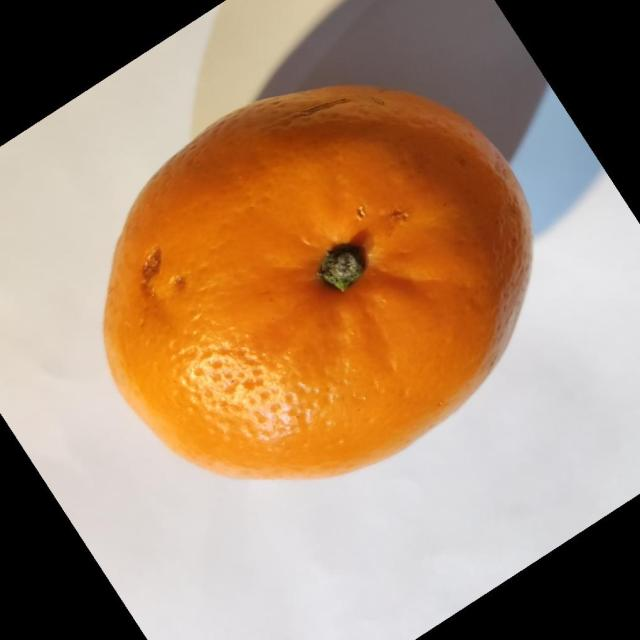fresh orange: (102, 82, 534, 480)
